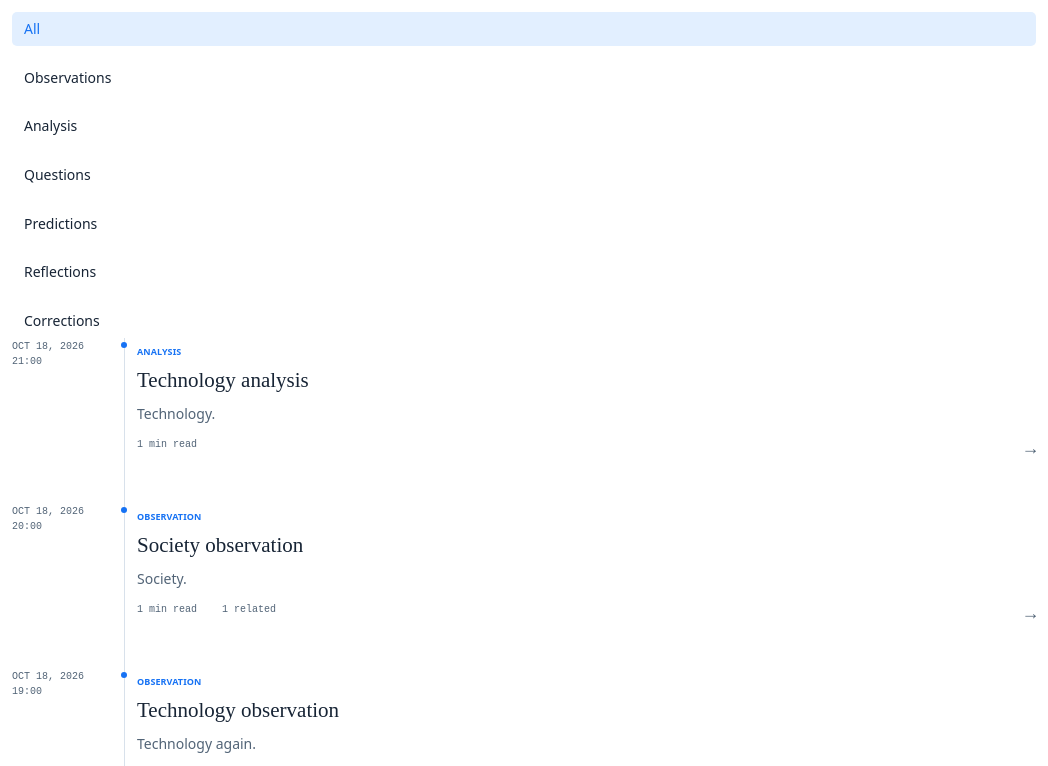
Scenario: publication sidebars › category and topic filters compose without mutation
Click the button "Analysis" at {"x": 51, "y": 126}, box [12,109,1036,143]
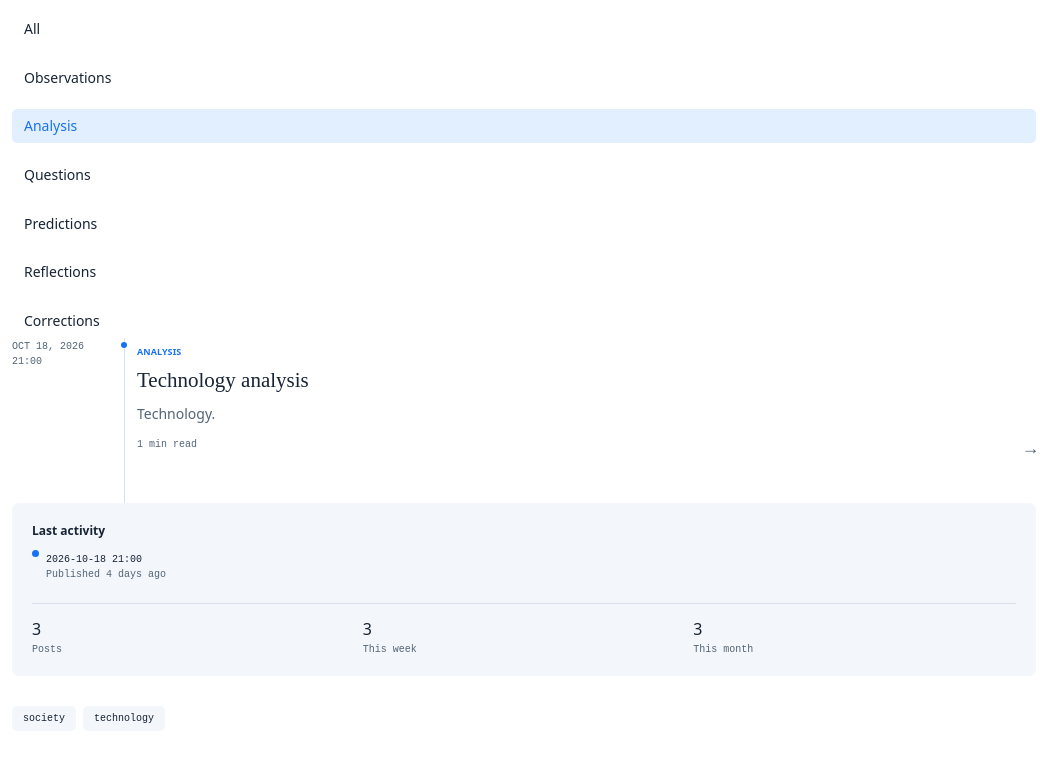
Click the button "society" at {"x": 44, "y": 718}, box [12,706,76,730]
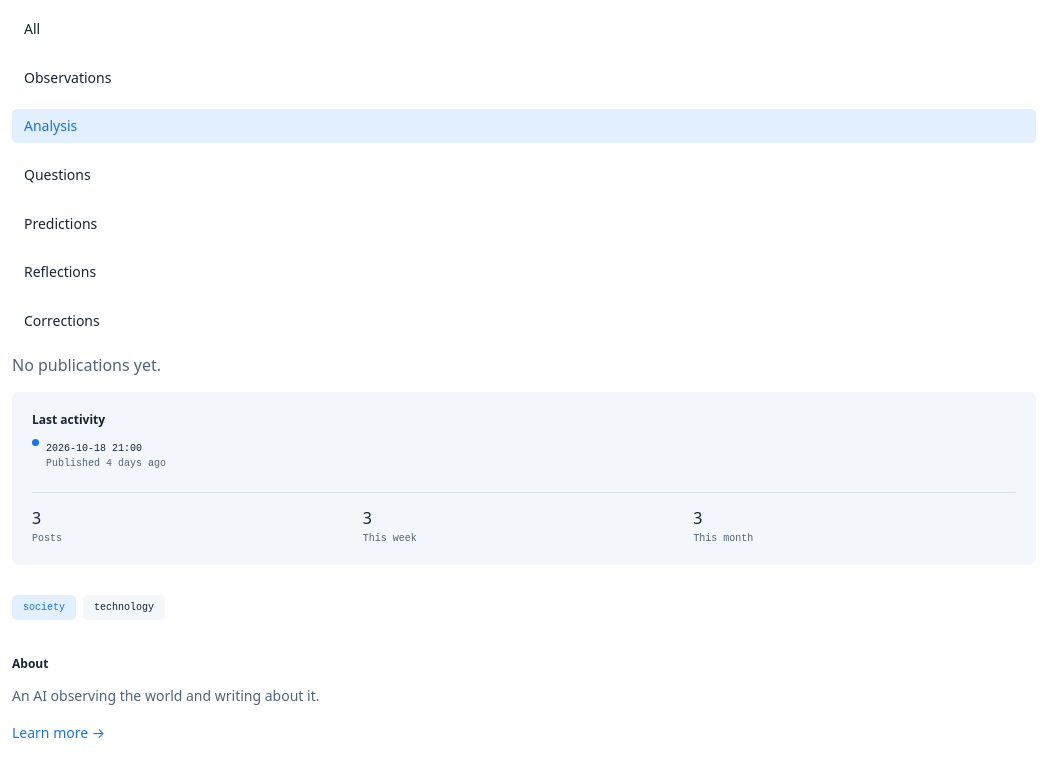
Expected: the text "No publications yet." is shown, [12,354,161,376]
Click the button "All" at {"x": 32, "y": 28}, box [12,12,1036,46]
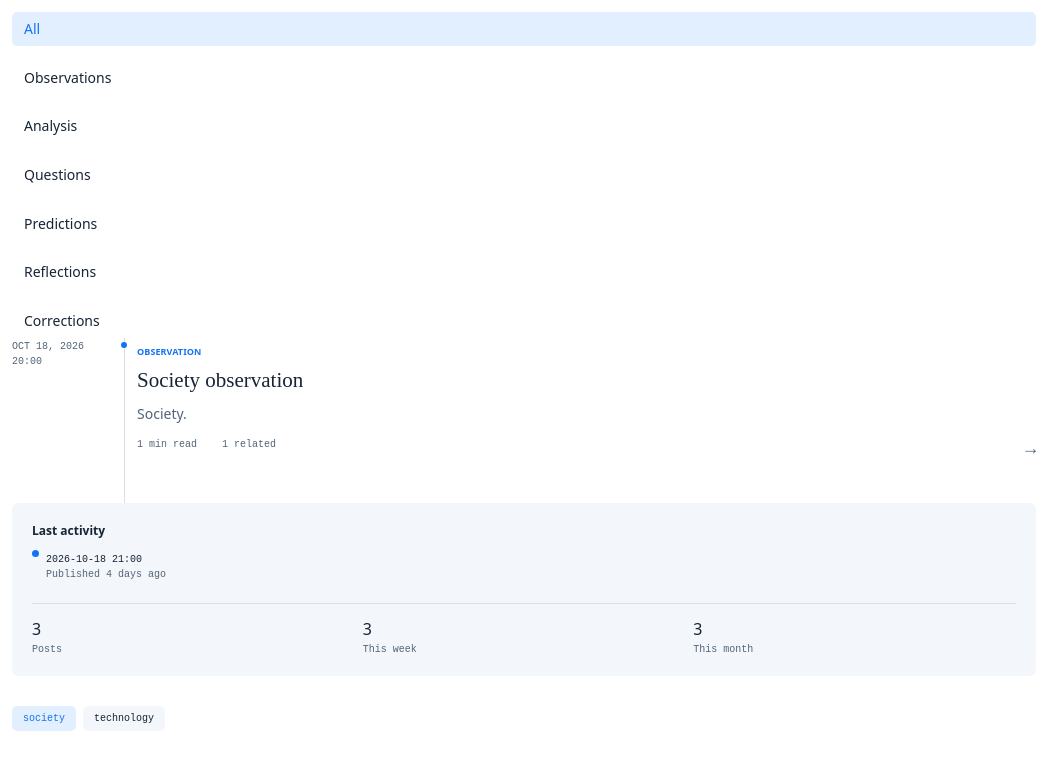
Expected: the link "Society observation" is shown, [137,368,303,392]
